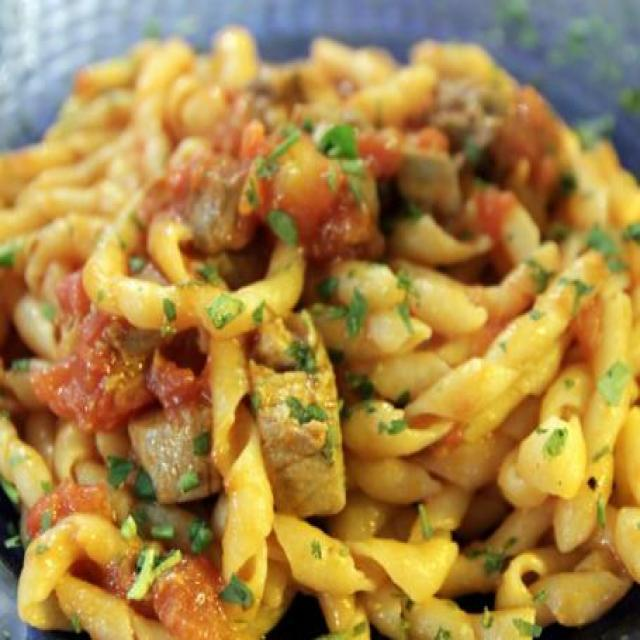Pasta al ragu: (10, 50, 626, 617)
